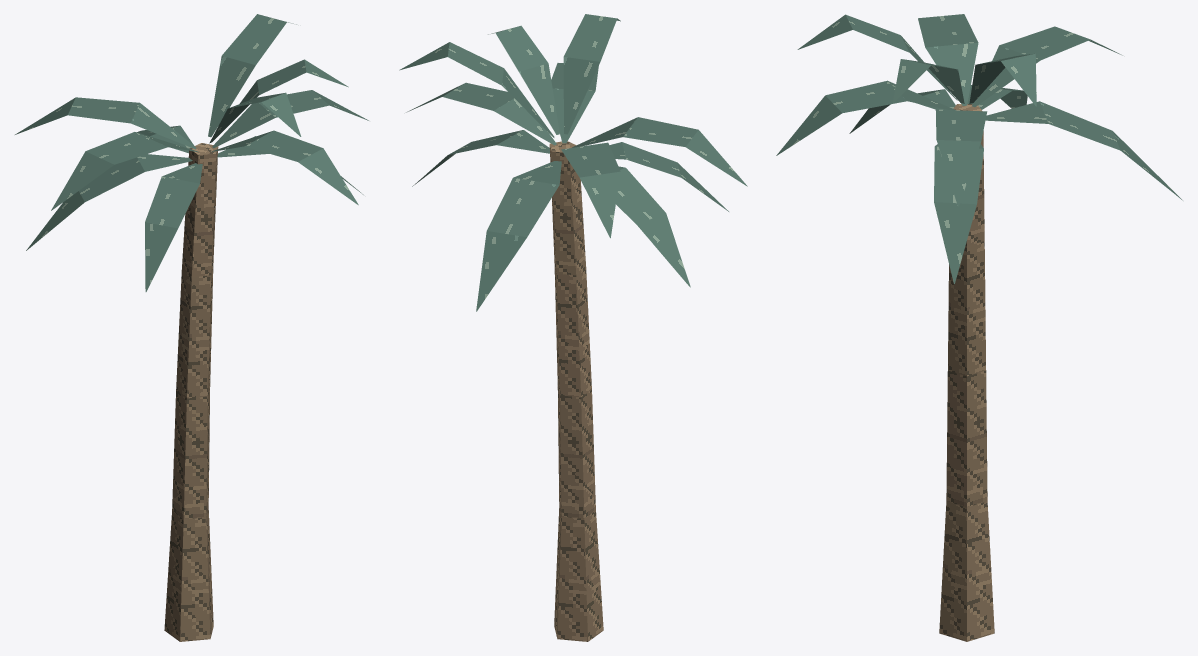
Rendered from true-date-mid.glb.
The picture shows the model from 3 angles, left to right: view 1: azimuth 30°, elevation 25°; view 2: azimuth 150°, elevation 25°; view 3: azimuth 270°, elevation 25°; orthographic projection. The views are drawn at different scales.
Parts seen in each view (by area): view 1: crown_true-date-mid, trunk_true-date-mid; view 2: crown_true-date-mid, trunk_true-date-mid; view 3: crown_true-date-mid, trunk_true-date-mid.
Boxes of the visible parts, x1,y1,x2,y2 form: crown_true-date-mid: (15, 14, 368, 291); trunk_true-date-mid: (164, 143, 218, 641); crown_true-date-mid: (399, 14, 747, 311); trunk_true-date-mid: (549, 141, 603, 641); crown_true-date-mid: (776, 14, 1182, 283); trunk_true-date-mid: (939, 104, 994, 641).
Bounding box in the file's own units: 7.8 × 12.87 × 7.56.
Materials: 2 (2 with a texture image).
